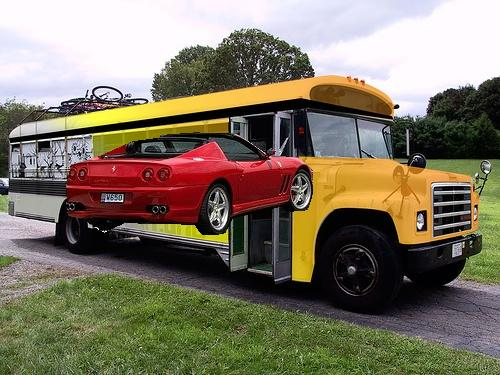tampered: (67, 133, 313, 235)
